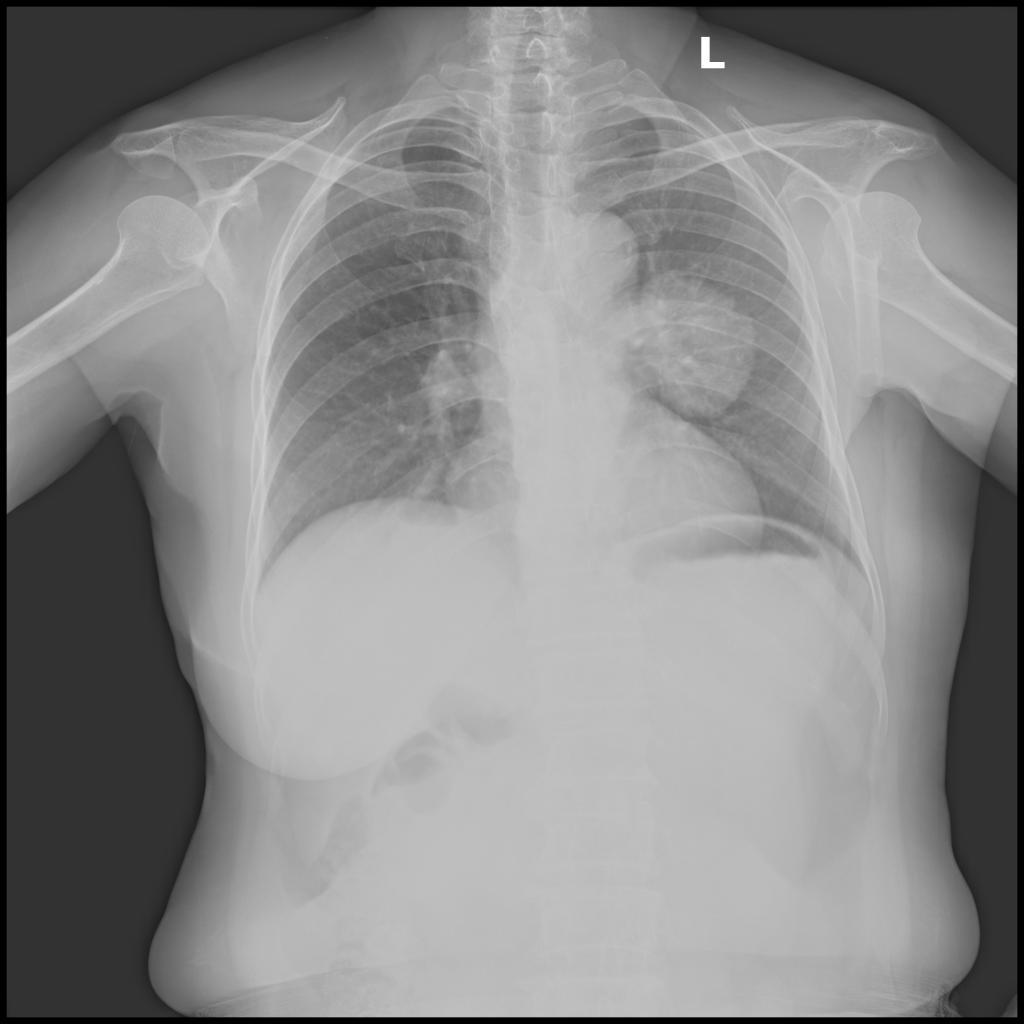Nodule: (640, 278, 760, 418)
